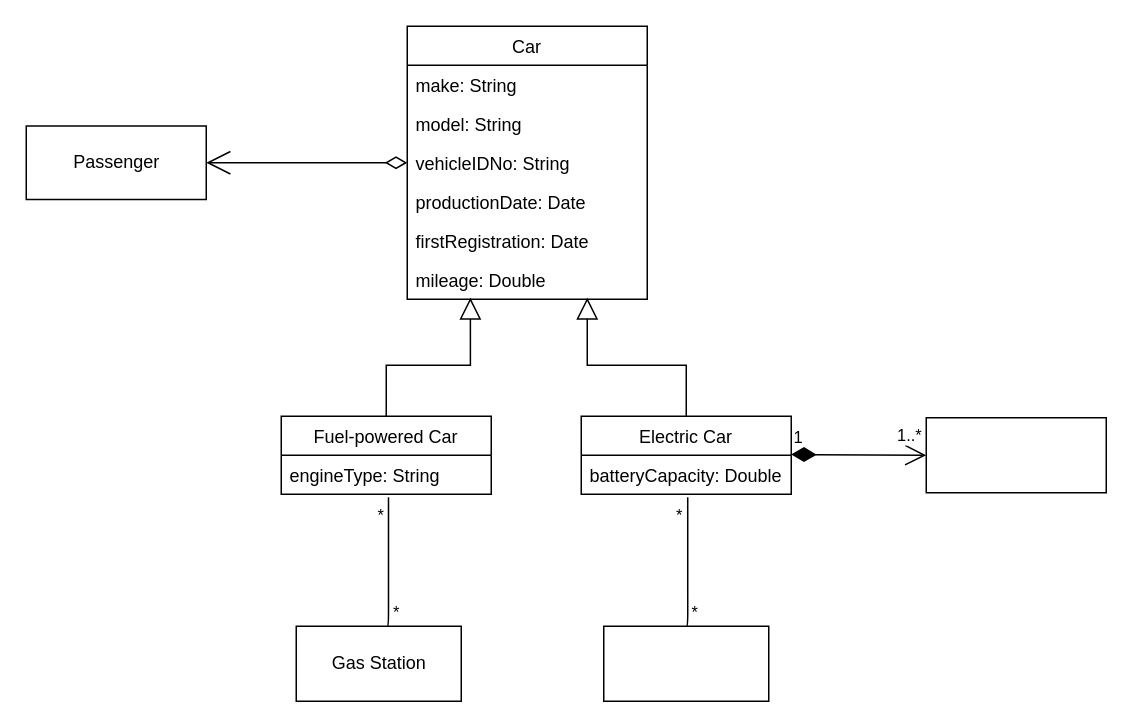
Some shapes in this 1133 by 728 pixel diagram are drawn without their labels. Here are the shapes that lost their labels. From the top down, the centre of each, then its label:
the point at 1015,454: Electric Engine
the point at 685,663: Charging Station
